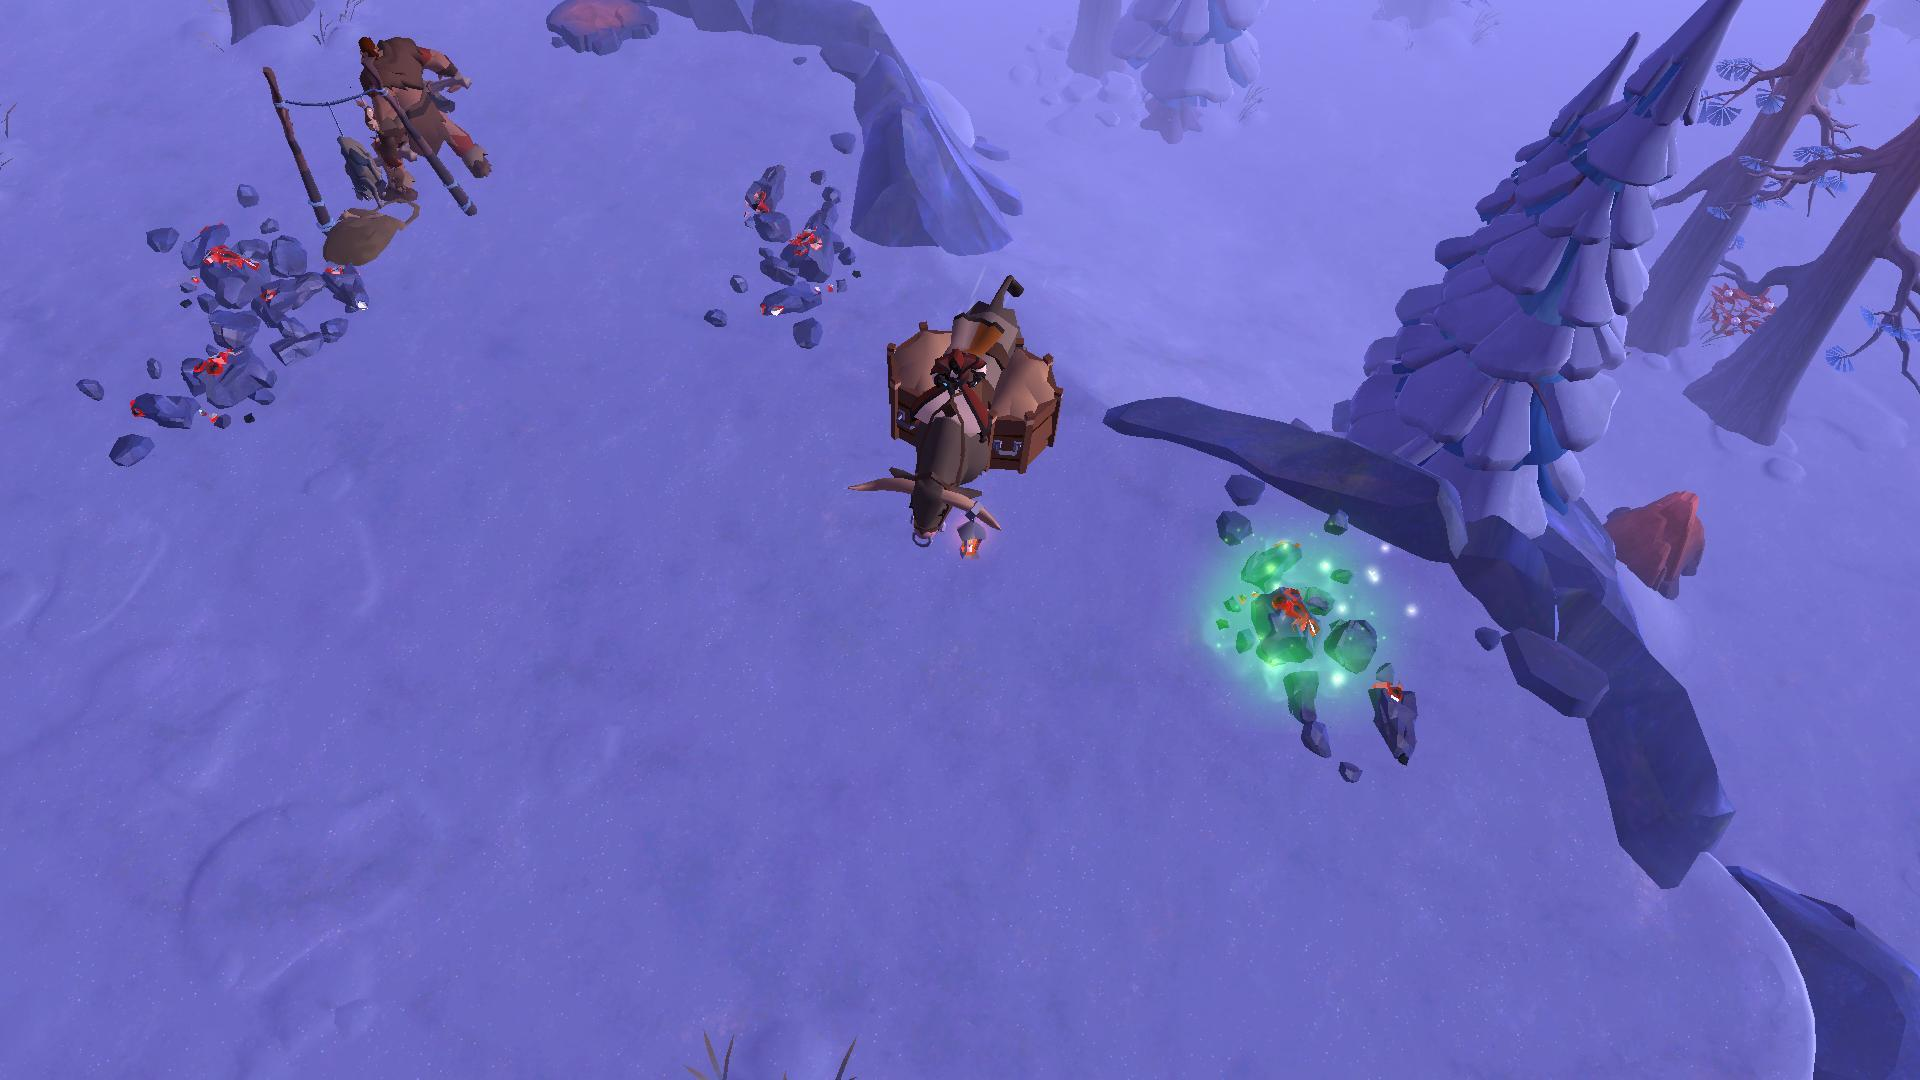enemy_factionKeeper: (352, 24, 492, 199)
rock_t5: (1600, 487, 1709, 601)
